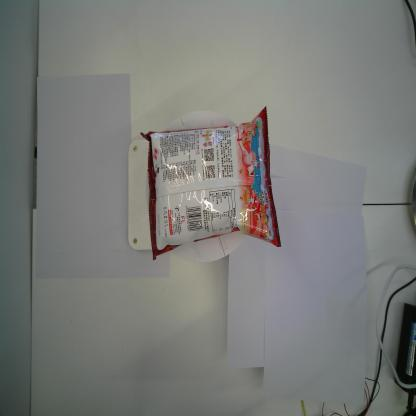Puffed Food: (140, 104, 282, 263)
